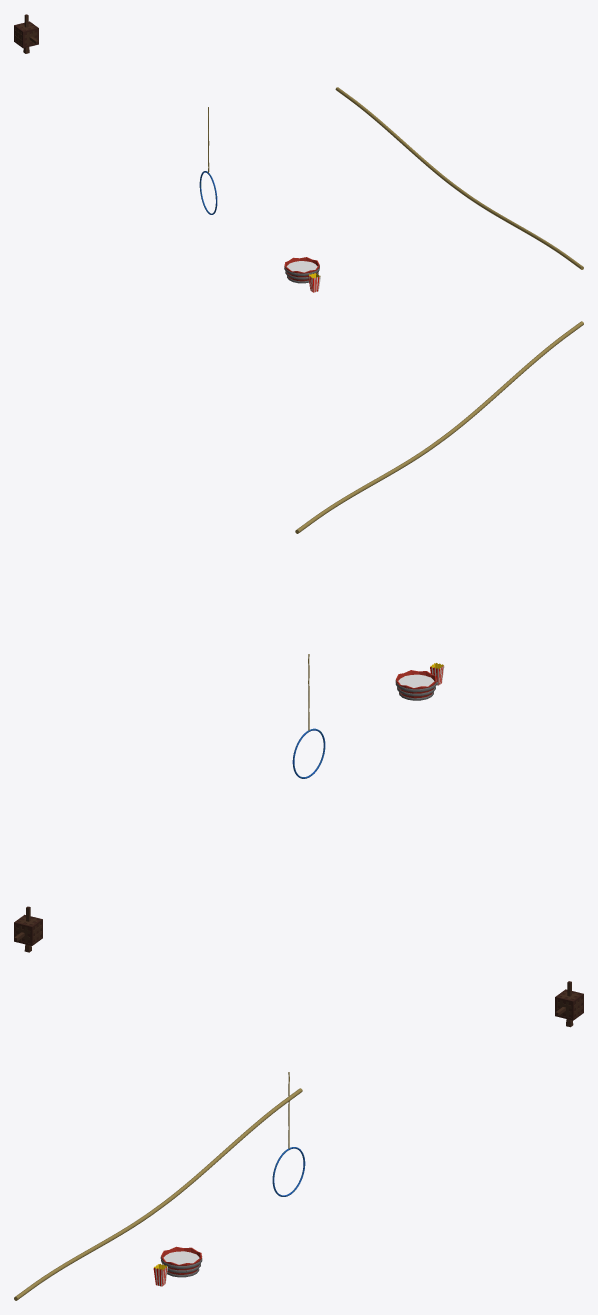
The picture shows the model from 3 angles, top to bottom: view 1: azimuth 30°, elevation 25°; view 2: azimuth 150°, elevation 25°; view 3: azimuth 330°, elevation 25°; orthographic projection. The views are drawn at different scales.
Parts seen in each view (by area): view 1: Cylinder.002, Circle, Cube.002; view 2: Cylinder.002, Circle, Cube.002; view 3: Cylinder.002, Circle, Cube.002, Torus.001.
Boxes of the visible parts, <box> form: Cylinder.002: <box>335,87,583,269</box>; Circle: <box>284,257,319,283</box>; Cube.002: <box>14,14,38,53</box>; Cylinder.002: <box>295,321,583,533</box>; Circle: <box>395,670,437,700</box>; Cube.002: <box>14,906,42,952</box>; Cylinder.002: <box>14,1088,302,1300</box>; Circle: <box>160,1246,202,1277</box>; Cube.002: <box>555,981,583,1027</box>; Torus.001: <box>272,1072,305,1196</box>.
Bounding box in the file's own units: 378 × 646 × 4003.
